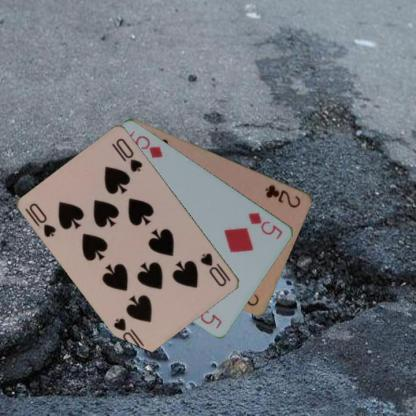10s: (22, 200, 58, 239), (198, 250, 232, 288)
2c: (262, 182, 302, 209)
5d: (246, 210, 284, 241)
